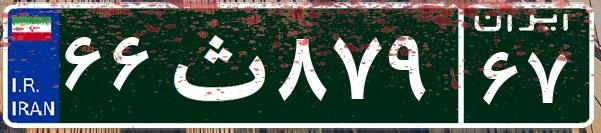6: (57, 26, 110, 107), (475, 38, 525, 113), (110, 28, 158, 105)
7: (330, 28, 385, 110), (525, 38, 570, 115)
8: (273, 28, 330, 110)
9: (385, 28, 445, 110)
ث: (158, 15, 273, 115)
